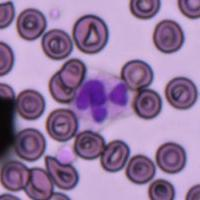N: (71, 73, 132, 124)
